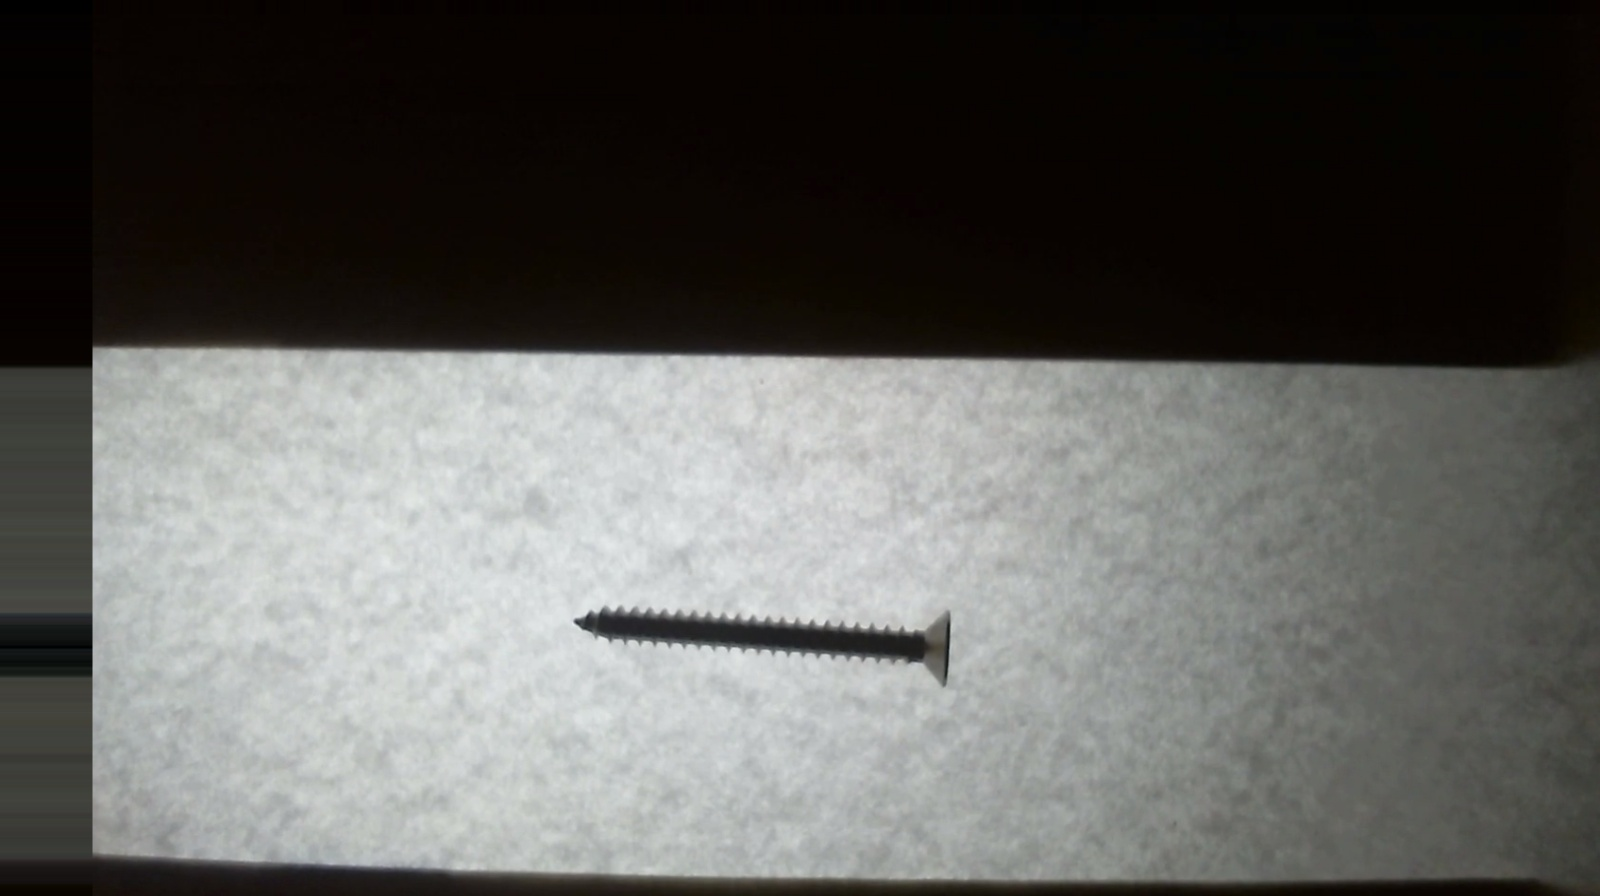S002: (552, 574, 980, 698)
